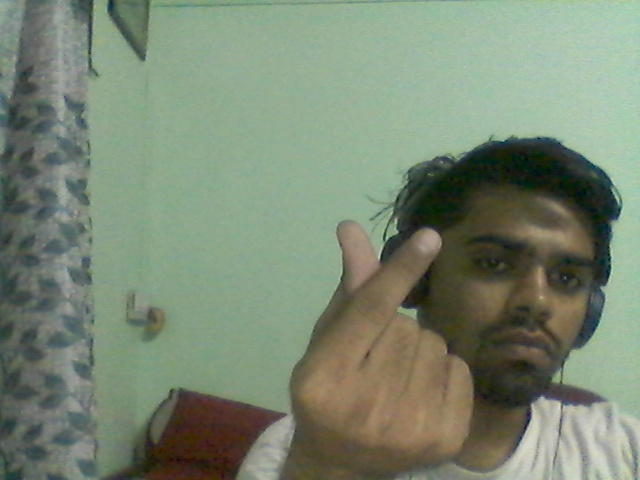I Love You: (254, 206, 499, 478)
